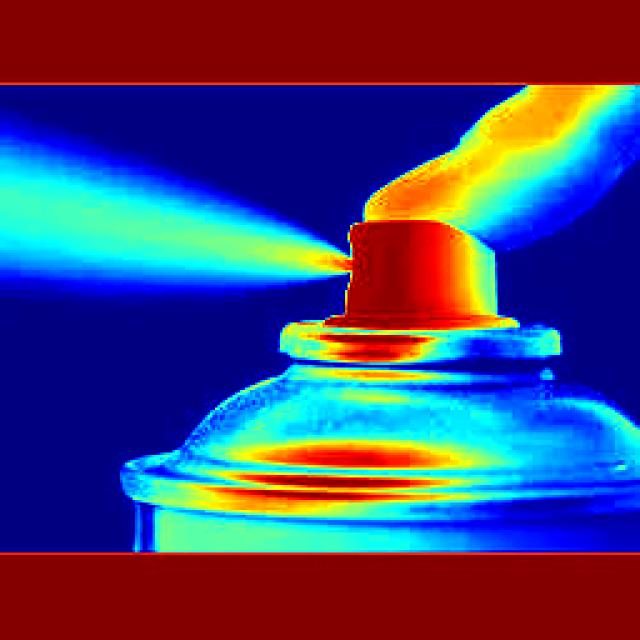Aerosol Cans: (193, 205, 640, 581)
